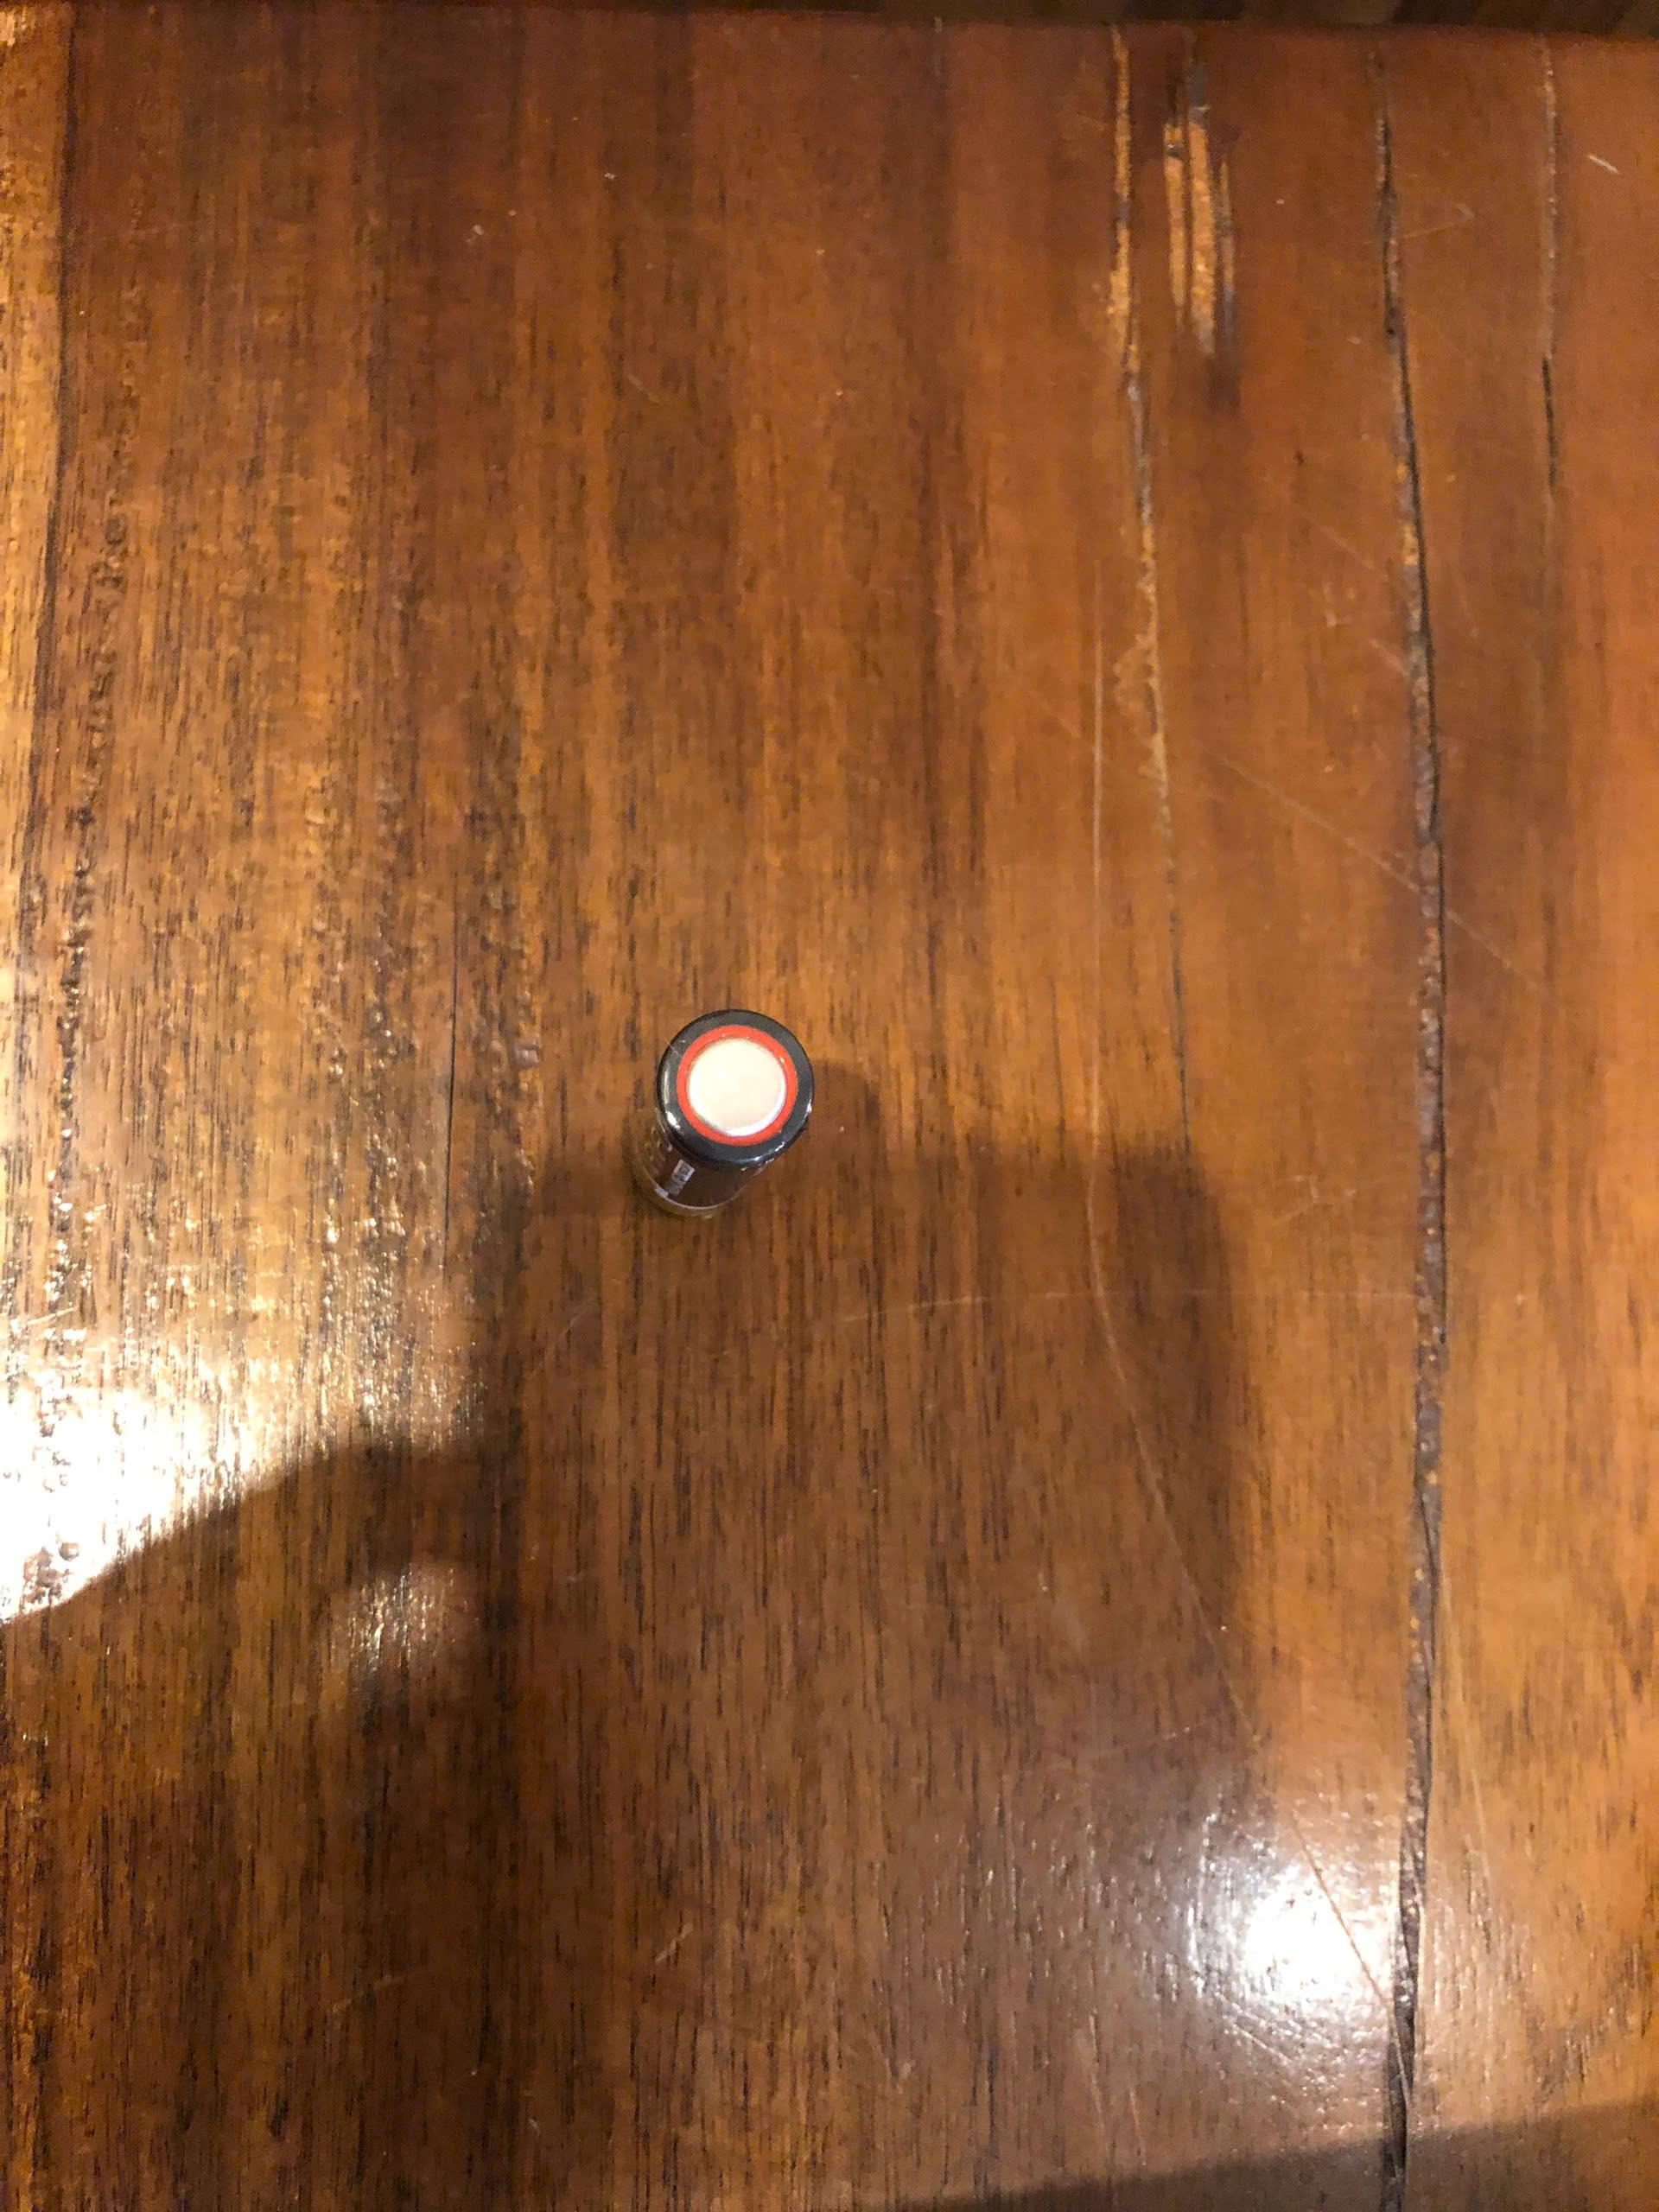Con lai: (622, 998, 823, 1235)
